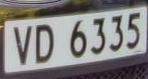3: (90, 12, 109, 61), (108, 11, 127, 56)
5: (124, 10, 143, 54)
6: (68, 13, 90, 65)
D: (34, 21, 57, 68)
V: (11, 24, 34, 68)
